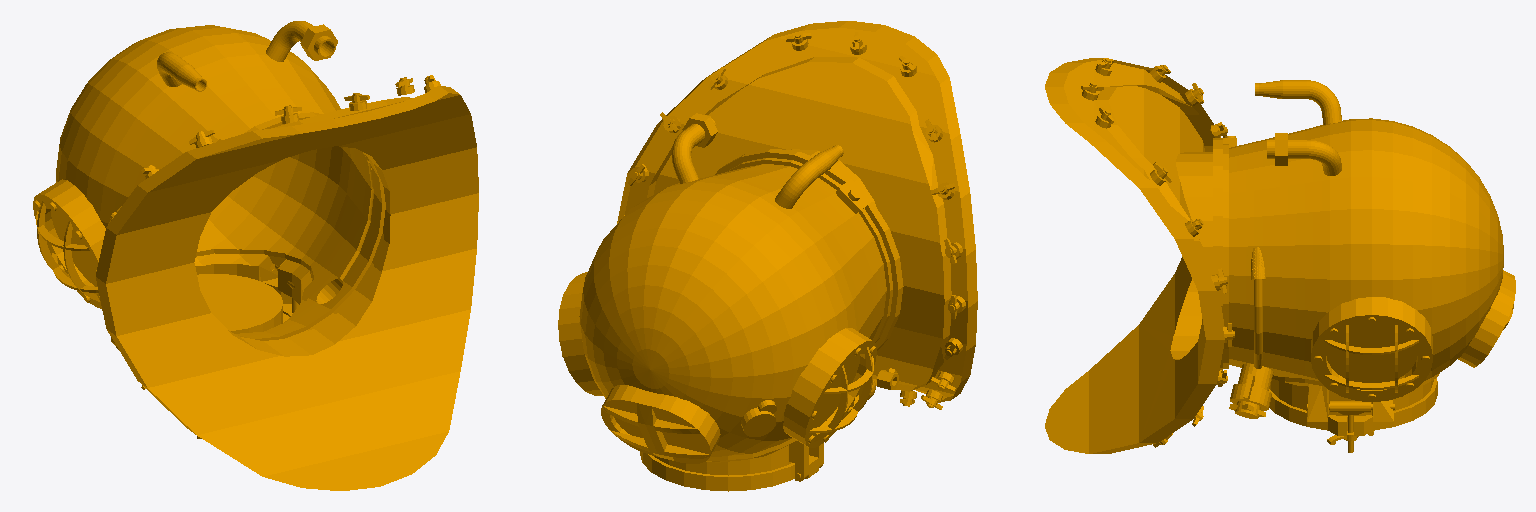
The robot description file, URDF, robot "03513137_73359cd0e38579745c351e299b24e355":
<?xml version='1.0'?>

<robot name="03513137_73359cd0e38579745c351e299b24e355">
    <static>false</static>
    <link name="link">
        <inertial>
            <mass value="0.10632453109077676"/>
            <inertia ixx="0.0006751063215849542" ixy="9.81441639387565e-06" ixz="0.00010303089060233401"
                     iyy="0.0004784246291106105" iyz="0.0003099443506250547" izz="0.00011801019398553372"/>
        </inertial>
        <collision name="collision">
            <geometry>
                <mesh filename="package://miscnet/train/03513137_73359cd0e38579745c351e299b24e355/collision_model_vhacd.obj"/>
            </geometry>
        </collision>
        <visual name="visual">
            <geometry>
                <mesh filename="package://miscnet/train/03513137_73359cd0e38579745c351e299b24e355/visual_model.obj"/>
            </geometry>
        </visual>
    </link>
</robot>

--- What the picture shows (computed from the rendered views, not written in the file) ---
3 views of the same robot in one strip: view 1: azimuth 30°, elevation 25°; view 2: azimuth 150°, elevation 25°; view 3: azimuth 270°, elevation 25° (orthographic).
Robot: 03513137_73359cd0e38579745c351e299b24e355 — 1 links, 0 joints (none); root link link; default pose: every joint at zero.
Visible links, largest first — view 1: link; view 2: link; view 3: link.
Boxes of the visible links, <box> form: link: <box>33,21,478,490</box>; link: <box>558,21,977,491</box>; link: <box>1045,58,1515,453</box>.
Bounding box of the posed robot: 0.0986 × 0.1169 × 0.095 m (x, y, z).
1 mesh visuals loaded from 1 distinct referenced files (1 OBJ).
